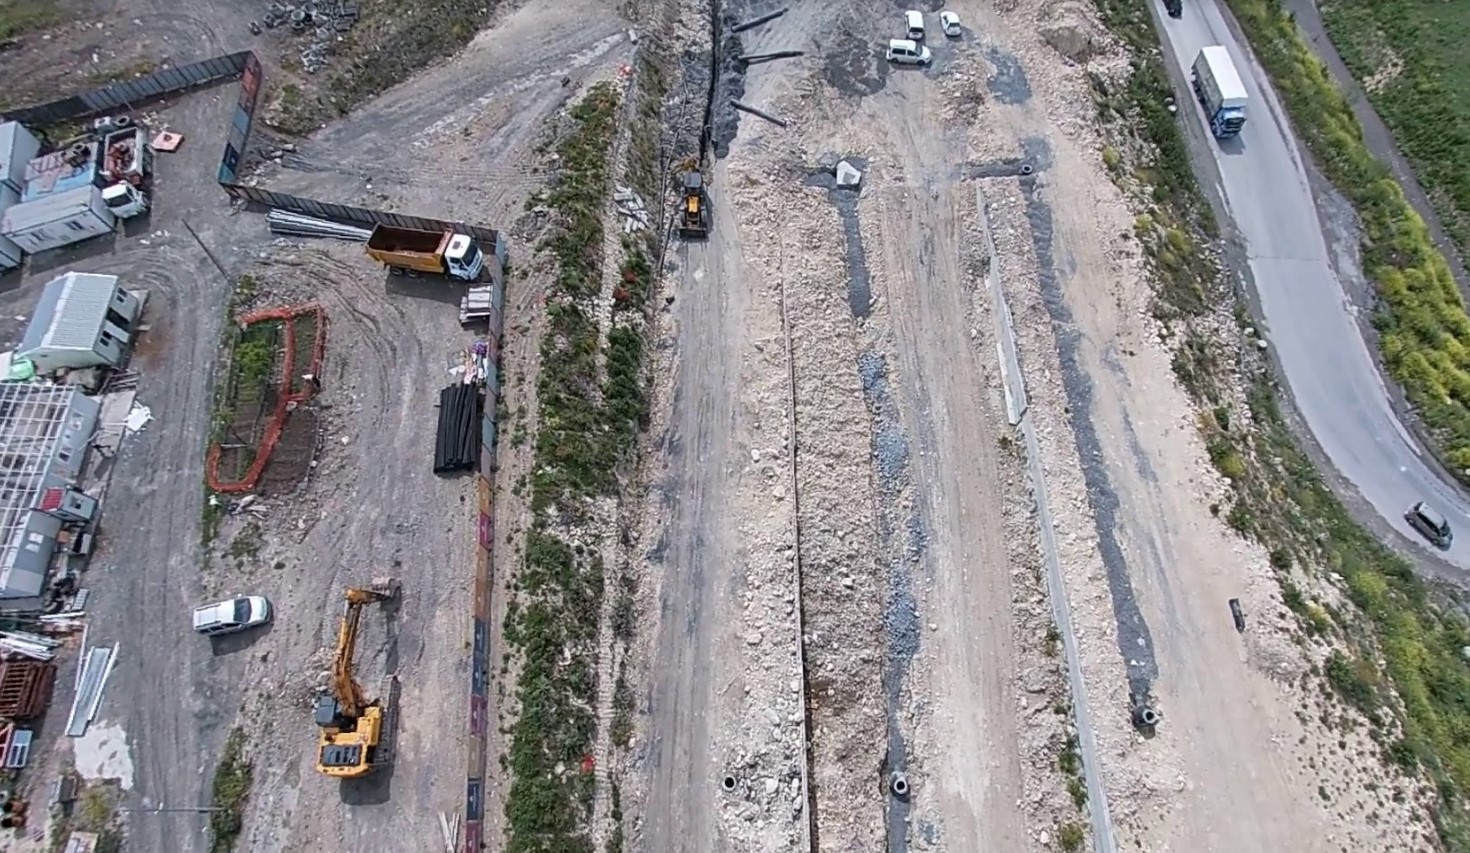araba: (190, 592, 267, 630), (1409, 501, 1456, 548), (884, 37, 934, 68), (939, 7, 962, 38), (903, 7, 924, 36)
ismakinasi: (309, 575, 402, 781)
kamyon: (366, 219, 488, 278), (1190, 42, 1251, 140), (97, 124, 152, 224)
traktor: (678, 169, 713, 241)
